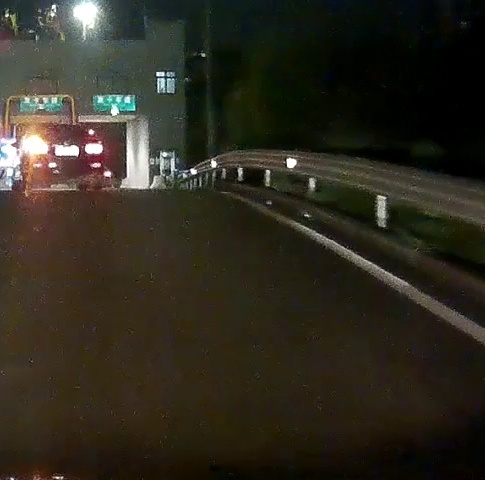L_light: (28, 144, 48, 153)
R_light: (85, 144, 103, 154)
T_light: (57, 125, 70, 129)
night-left: (24, 123, 104, 189)
